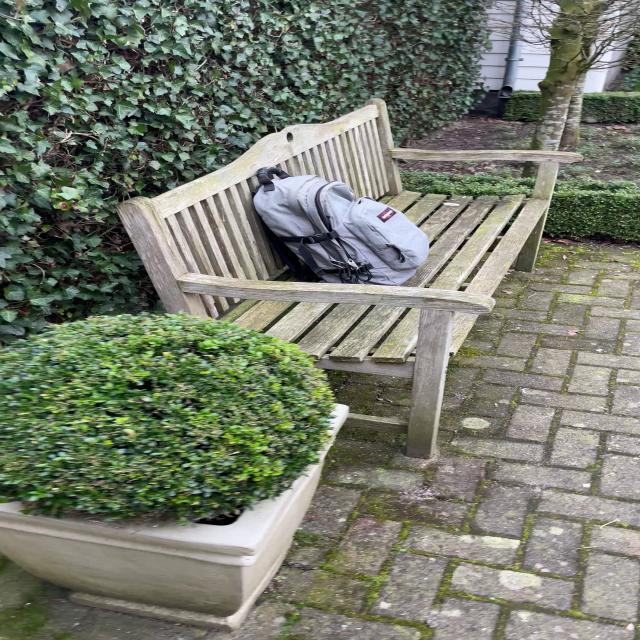backpack: (244, 165, 435, 288)
